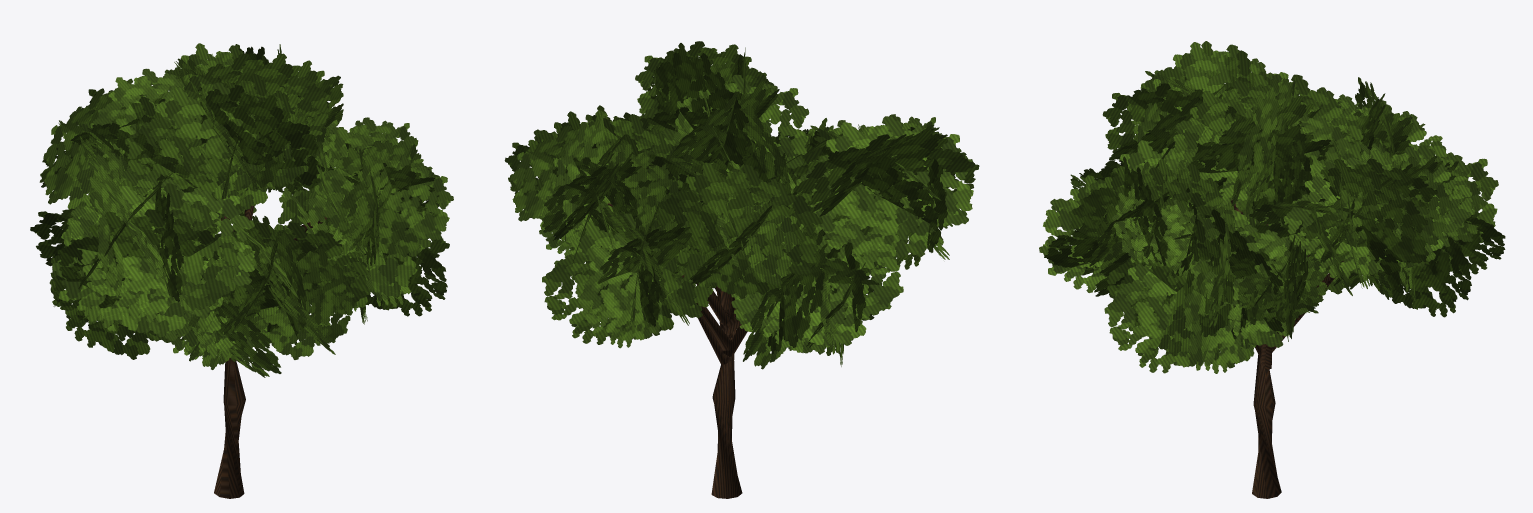
File: oak1.glb
3 renders of one model, left to right at view 1: azimuth 30°, elevation 25°; view 2: azimuth 150°, elevation 25°; view 3: azimuth 270°, elevation 25°, orthographic. The views are drawn at different scales.
Visible parts, largest first — view 1: Rameaux feuillus oak1, Tronc et branches oak1; view 2: Rameaux feuillus oak1, Tronc et branches oak1; view 3: Rameaux feuillus oak1, Tronc et branches oak1.
Part boxes in pixels (bbox=[...]): Rameaux feuillus oak1: bbox=[30, 43, 453, 377]; Tronc et branches oak1: bbox=[214, 205, 326, 498]; Rameaux feuillus oak1: bbox=[504, 41, 979, 369]; Tronc et branches oak1: bbox=[607, 203, 815, 498]; Rameaux feuillus oak1: bbox=[1039, 41, 1505, 373]; Tronc et branches oak1: bbox=[1231, 200, 1344, 498].
Bounding box in the file's own units: 10.07 × 9.75 × 10.16.
Materials: 2 (2 with a texture image).
